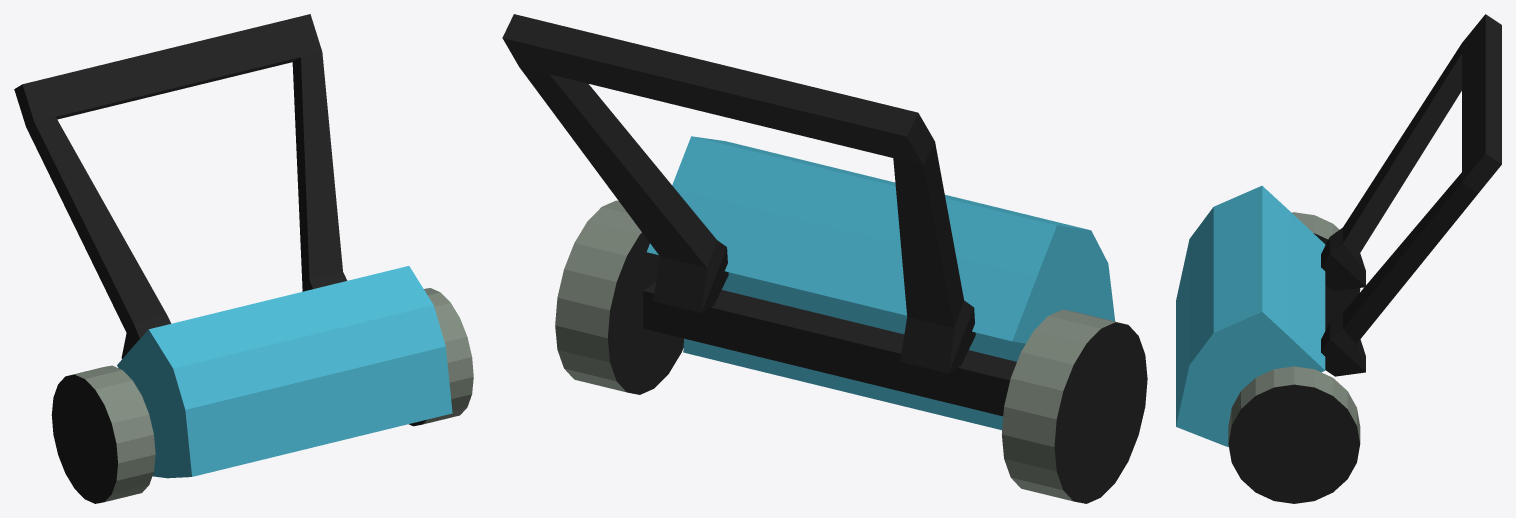
File: Rasenmäher.fbx
3 views of the same model, side by side, from view 1: azimuth 30°, elevation 25°; view 2: azimuth 150°, elevation 25°; view 3: azimuth 270°, elevation 25° (orthographic). The views are drawn at different scales.
Parts seen in each view (by area): view 1: rasenmäher; view 2: rasenmäher; view 3: rasenmäher.
Part boxes in pixels (x1,y1,x2,y2): rasenmäher: (14,14,473,503); rasenmäher: (502,14,1147,503); rasenmäher: (1176,14,1501,503).
Bounding box in the file's own units: 1118 × 1010 × 894.
